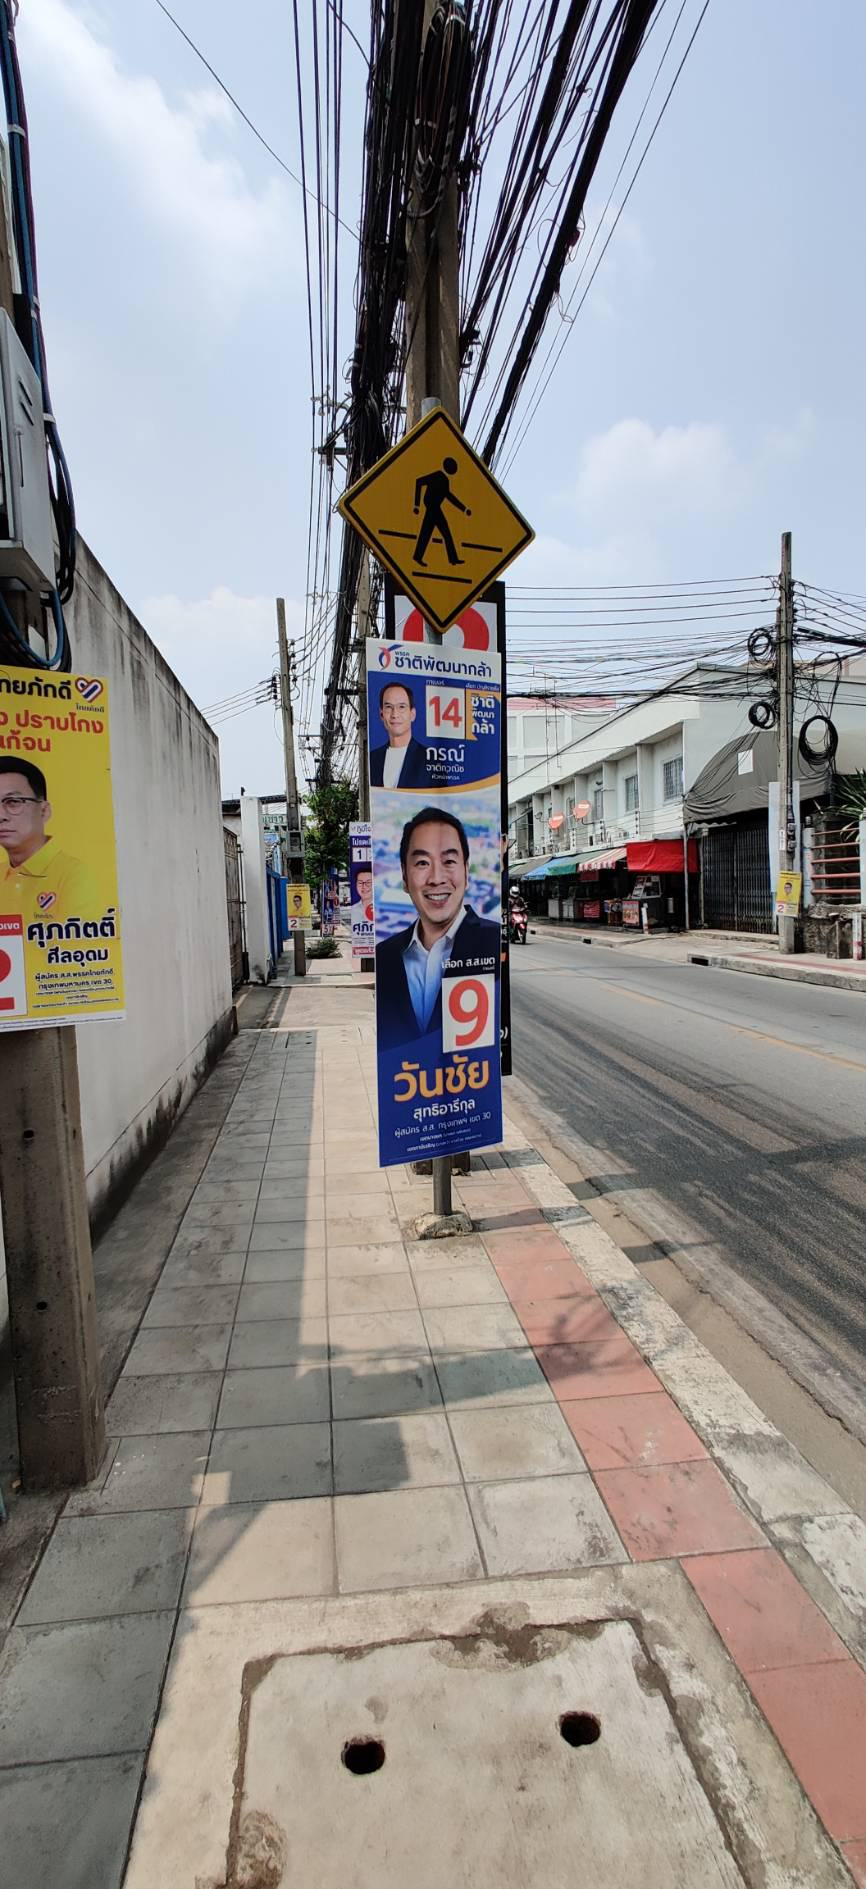Banner: (353, 647, 528, 1182), (0, 667, 131, 1020)
